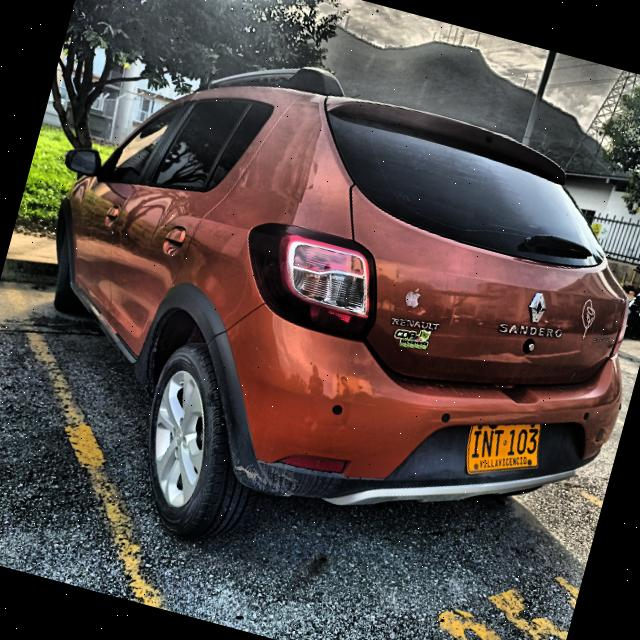0: (515, 429, 528, 454)
1: (505, 428, 517, 456)
3: (525, 428, 538, 455)
I: (469, 429, 482, 458)
N: (481, 429, 494, 458)
T: (492, 429, 505, 457)
